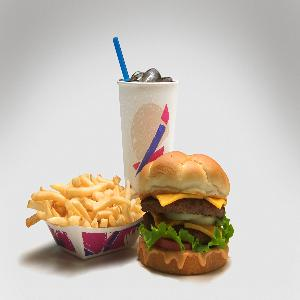cheeseburger: (140, 149, 234, 282)
fries: (21, 158, 142, 261)
